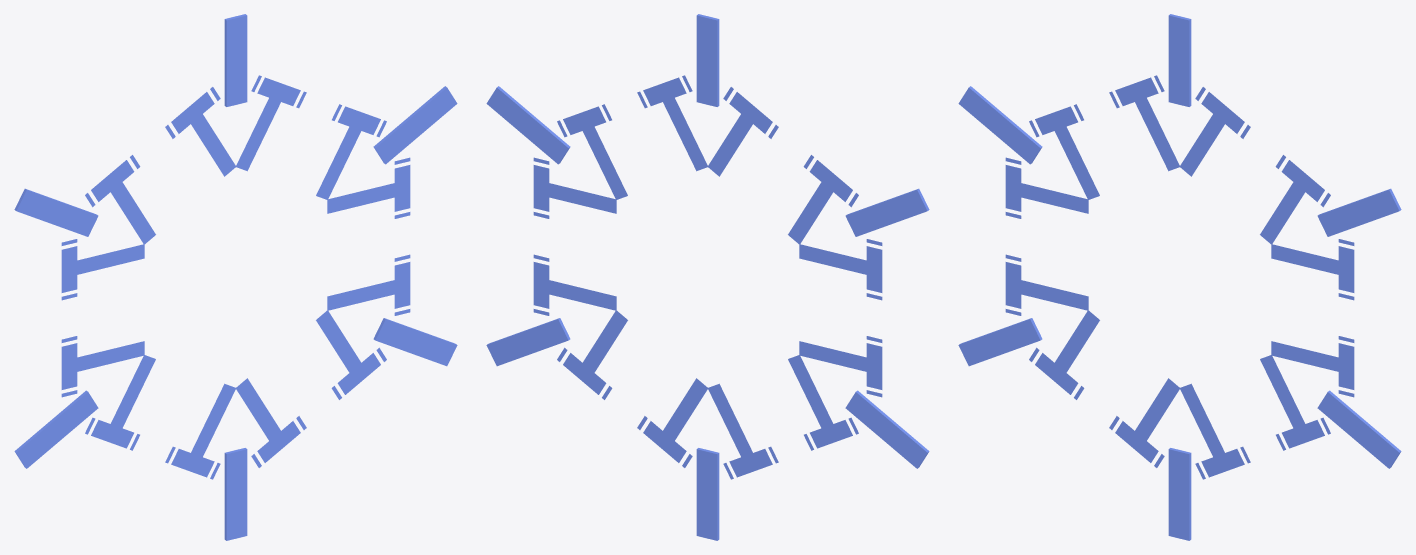
File: 秩序界域.gltf
3 views of the same model, side by side, from view 1: azimuth 30°, elevation 25°; view 2: azimuth 150°, elevation 25°; view 3: azimuth 330°, elevation 25° (orthographic).
Parts seen in each view (by area): view 1: Group-1 (×12), Group (×6); view 2: Group-1 (×12), Group (×6); view 3: Group-1 (×12), Group (×6).
Boxes of the visible parts, x1=… form: Group-1 (×12): x1=61, y1=75, x2=410, y2=479; Group (×6): x1=14, y1=14, x2=457, y2=540; Group-1 (×12): x1=533, y1=75, x2=882, y2=479; Group (×6): x1=486, y1=14, x2=929, y2=540; Group-1 (×12): x1=1005, y1=75, x2=1354, y2=479; Group (×6): x1=958, y1=14, x2=1401, y2=540.
Size of the model in its own units: 128 by 144 by 1.
Materials: 1 (1 with a texture image).
